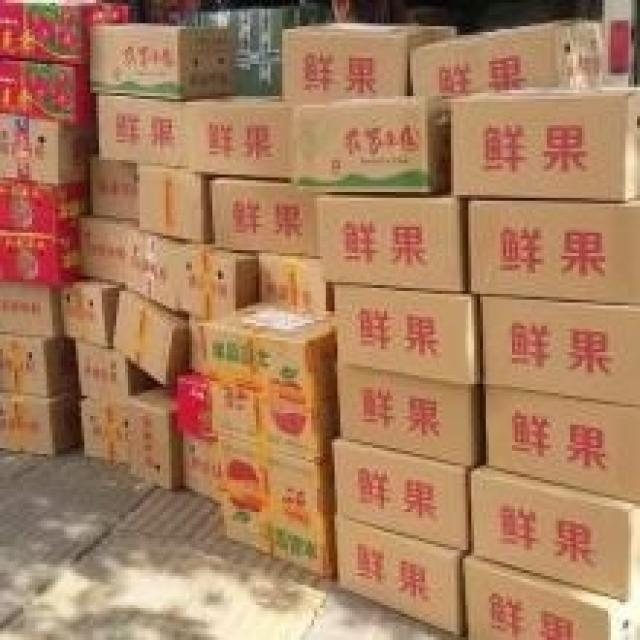box: (471, 465, 640, 602), (448, 87, 640, 204), (468, 192, 640, 305), (486, 387, 640, 506), (483, 297, 640, 404), (288, 96, 451, 195), (410, 17, 605, 96), (332, 285, 480, 387), (335, 439, 471, 550), (282, 20, 457, 105), (340, 364, 483, 468), (337, 518, 465, 634), (317, 195, 471, 291), (465, 556, 637, 640), (201, 300, 335, 399), (93, 20, 236, 99), (212, 378, 337, 463), (224, 495, 337, 579), (183, 93, 294, 177), (215, 439, 335, 512), (0, 3, 128, 64), (166, 241, 259, 323), (113, 291, 189, 390), (212, 180, 314, 253), (0, 116, 96, 183), (0, 61, 96, 125), (99, 96, 186, 166), (125, 387, 183, 489), (0, 387, 81, 457), (140, 166, 212, 241), (0, 180, 90, 236), (79, 340, 157, 401), (0, 335, 76, 396), (61, 279, 125, 349), (0, 230, 79, 285), (131, 230, 186, 305), (262, 256, 332, 308), (0, 282, 64, 337), (81, 215, 128, 285), (81, 399, 125, 463), (93, 157, 137, 218), (177, 375, 215, 445), (186, 436, 221, 503), (186, 323, 204, 378)
